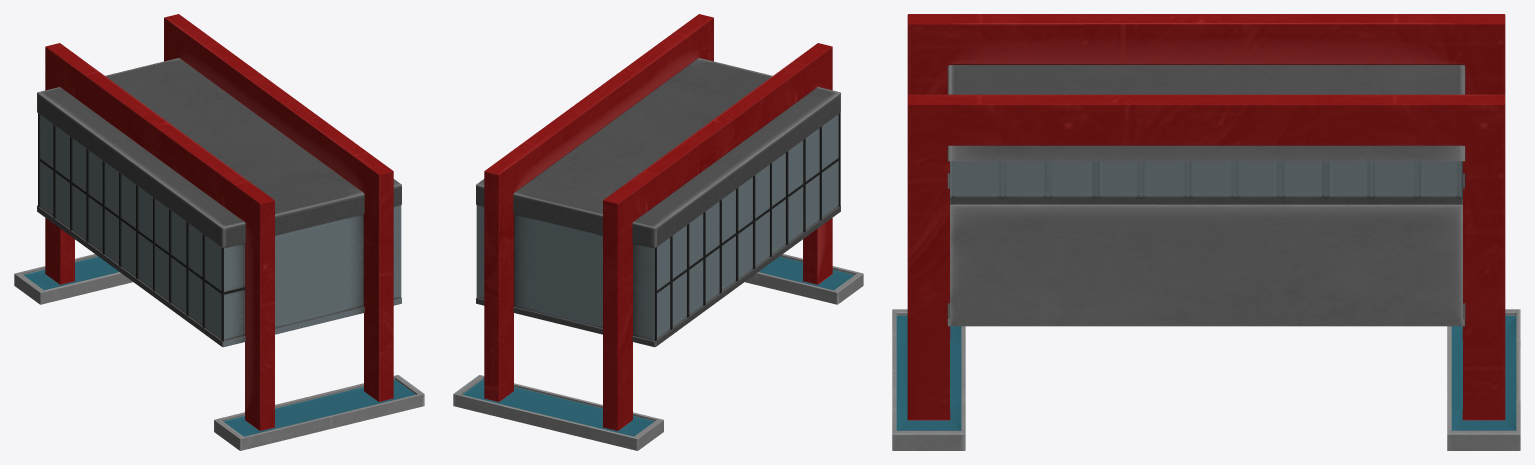
The model's file is masp.fbx.
3 renders of one model, left to right at view 1: azimuth 30°, elevation 25°; view 2: azimuth 150°, elevation 25°; view 3: azimuth 270°, elevation 25°, orthographic. The views are drawn at different scales.
Parts seen in each view (by area): view 1: Masp_Corpo, Masp_Ferro; view 2: Masp_Corpo, Masp_Ferro; view 3: Masp_Corpo, Masp_Ferro.
Boxes of the visible parts, box(x1,y1,x2,y2) form: Masp_Corpo: box(37, 58, 401, 347); Masp_Ferro: box(14, 14, 424, 450); Masp_Corpo: box(476, 58, 840, 347); Masp_Ferro: box(453, 14, 863, 450); Masp_Corpo: box(947, 65, 1465, 326); Masp_Ferro: box(892, 14, 1520, 450).
Bounding box in the file's own units: 808 × 990 × 1713.
